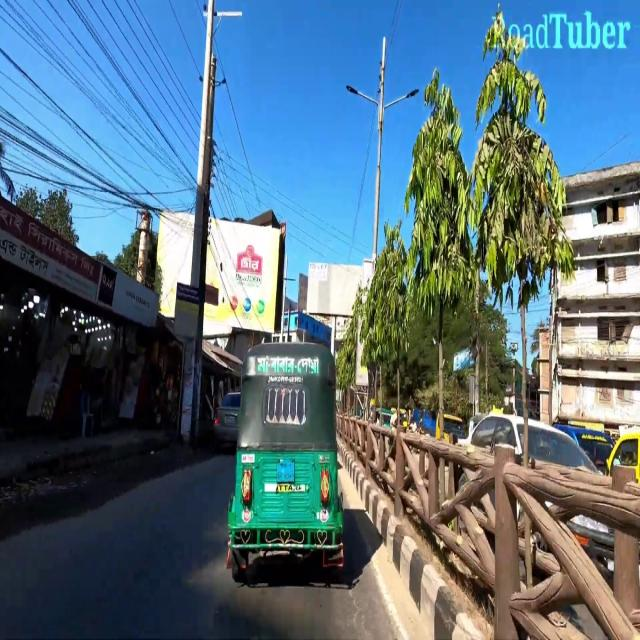silver: (212, 390, 238, 448)
white: (453, 409, 609, 482)
